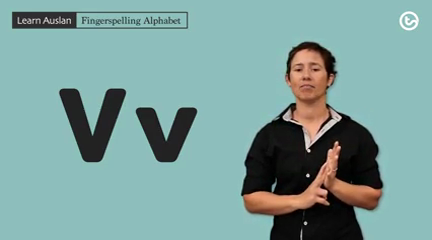V: (295, 134, 353, 212)
